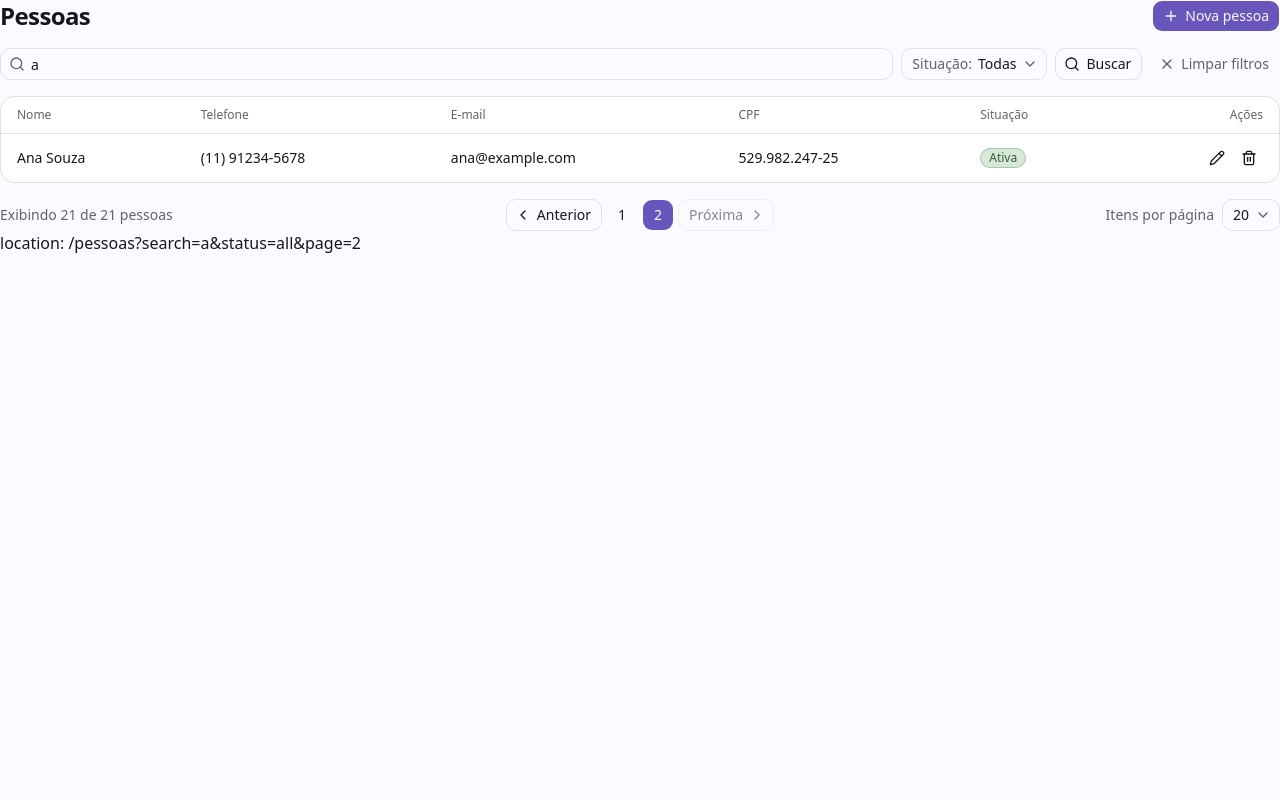
Test: ClientDeletePage › keeps the corrected page and filters in the address when the last-page response arrives before the dialog closes
Expected: the link "Ana Souza" is shown, [17,148,85,167]
Click the link named "Excluir Ana Souza" at (1249, 158), box [1241,150,1257,166]
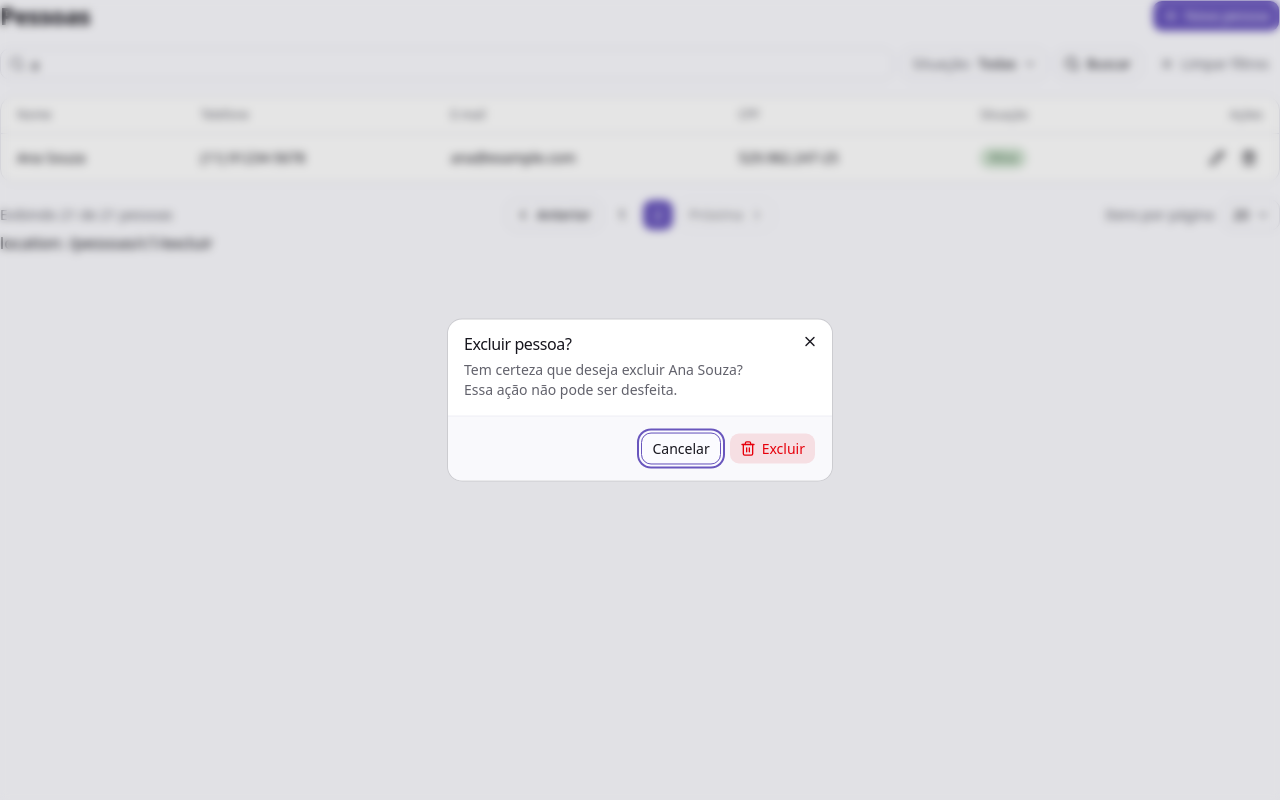
Result: the text "Tem certeza que deseja excluir Ana Souza?" is shown at [464,360,743,378]
Click the button "Excluir" at (772, 448), box [729,432,816,464]
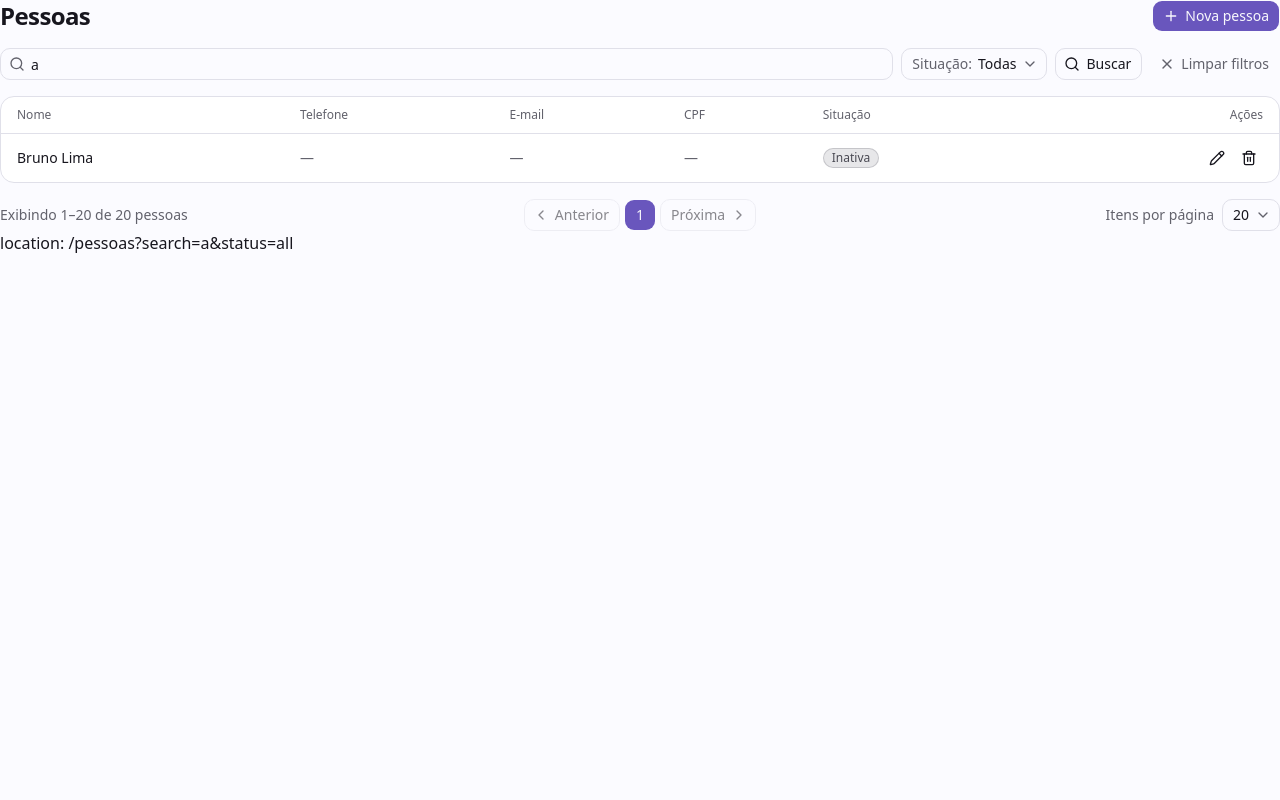
Result: the heading "Excluir pessoa?" is gone
Result: the link "Bruno Lima" is shown at [17,148,93,167]
Result: the text with test id "location" reads "location: /pessoas?search=a&status=all" at [0,232,293,254]
